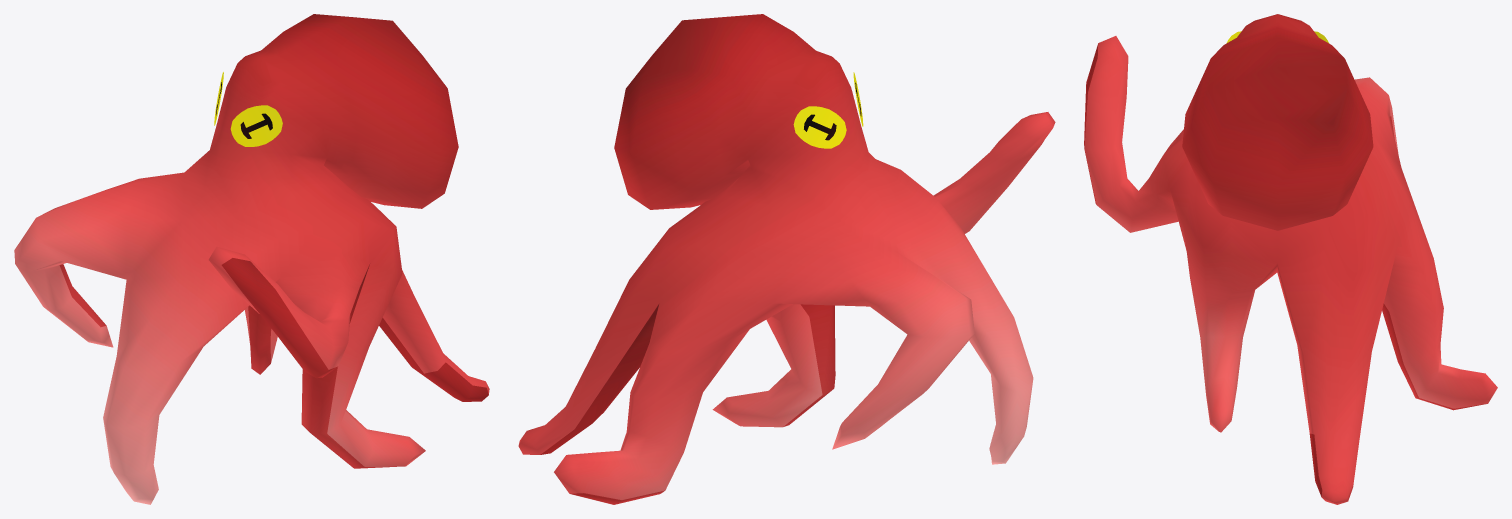
Rendered from pieuvre.glb.
3 views of the same model, side by side, from view 1: azimuth 30°, elevation 25°; view 2: azimuth 150°, elevation 25°; view 3: azimuth 270°, elevation 25° (orthographic). The views are drawn at different scales.
Visible parts, largest first — view 1: Cube.007, Plane.010; view 2: Cube.007, Plane.011; view 3: Cube.007.
Boxes of the visible parts, <box> form: Cube.007: <box>14,14,489,504</box>; Plane.010: <box>230,105,282,146</box>; Cube.007: <box>518,14,1055,504</box>; Plane.011: <box>793,106,846,148</box>; Cube.007: <box>1084,14,1497,504</box>.
Size of the model in its own units: 1.36 by 1.25 by 1.18.
1 material, 1 textured.
